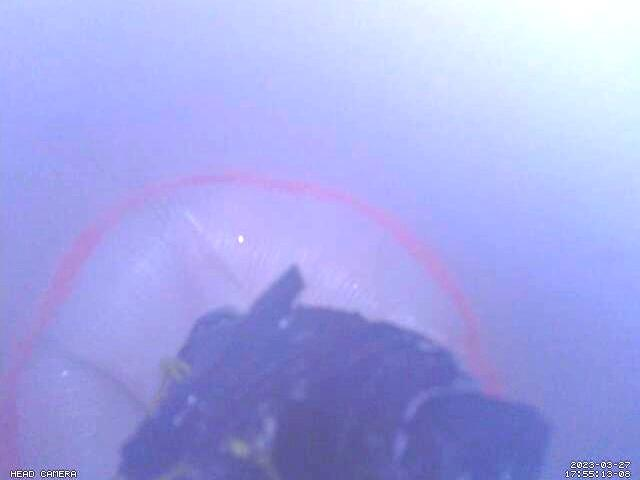head: (0, 171, 507, 480)
